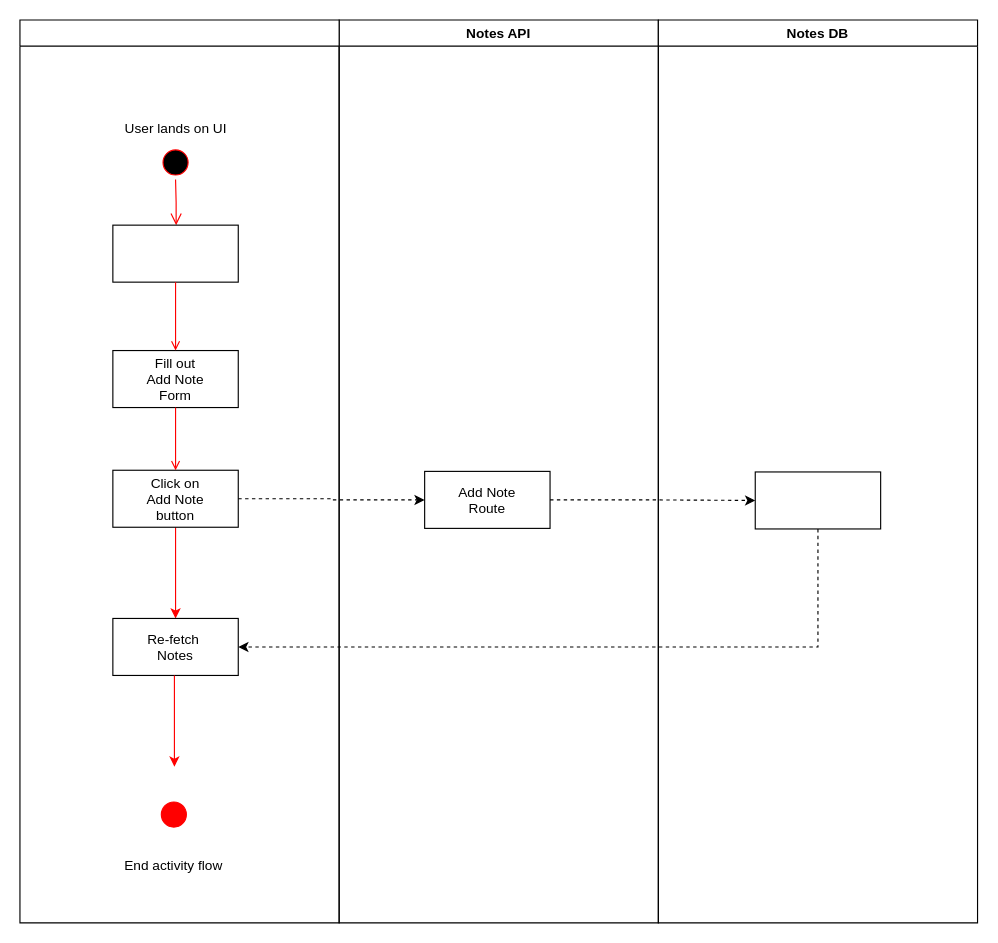
This 998x943 diagram has some shape labels left out. The box of each missing label's shape, as (x1, y1, x2, y2) in pixels:
Add Note to DB: (754, 471, 881, 529)
Client: (19, 19, 339, 923)
Scrolls down to the notes area: (112, 224, 238, 282)
